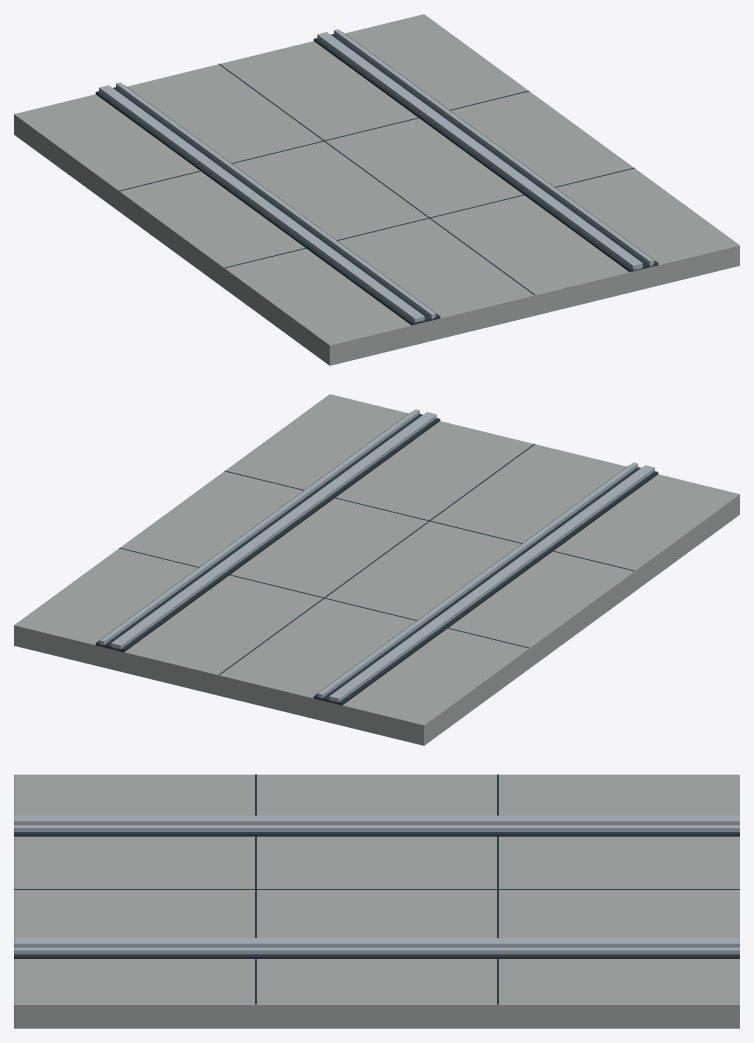
File: b13_embedded_grooved_streetcar_track.glb
3 views of the same model, one above another, from view 1: azimuth 30°, elevation 25°; view 2: azimuth 150°, elevation 25°; view 3: azimuth 270°, elevation 25° (orthographic). The views are drawn at different scales.
Parts seen in each view (by area): view 1: b13_embedded_grooved_streetcar_track; view 2: b13_embedded_grooved_streetcar_track; view 3: b13_embedded_grooved_streetcar_track.
Part boxes in pixels (x1=…): b13_embedded_grooved_streetcar_track: x1=14, y1=14, x2=739, y2=365; b13_embedded_grooved_streetcar_track: x1=14, y1=394, x2=739, y2=745; b13_embedded_grooved_streetcar_track: x1=14, y1=774, x2=739, y2=1028.
Bounding box in the file's own units: 2.7 × 0.167 × 3.6.
